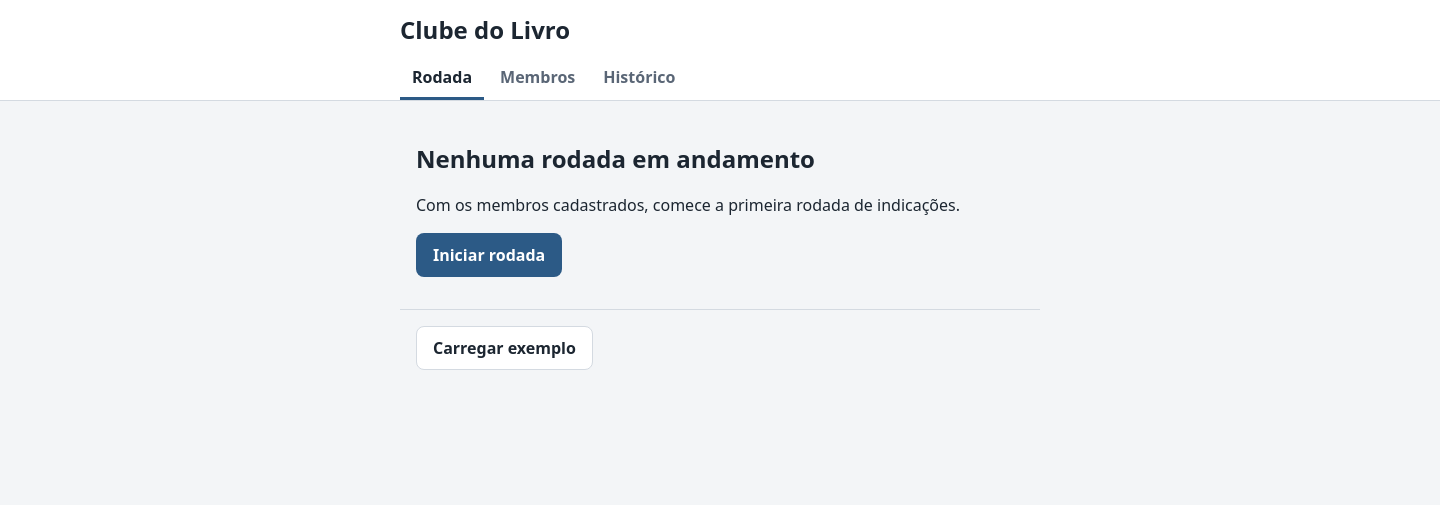
Scenario: App › troca de aba pela navegação
What coordinates should you click on to do the following:
click the link "Membros"
I would click on:
 (538, 77)
Its box is left=500, top=66, right=575, bottom=88.
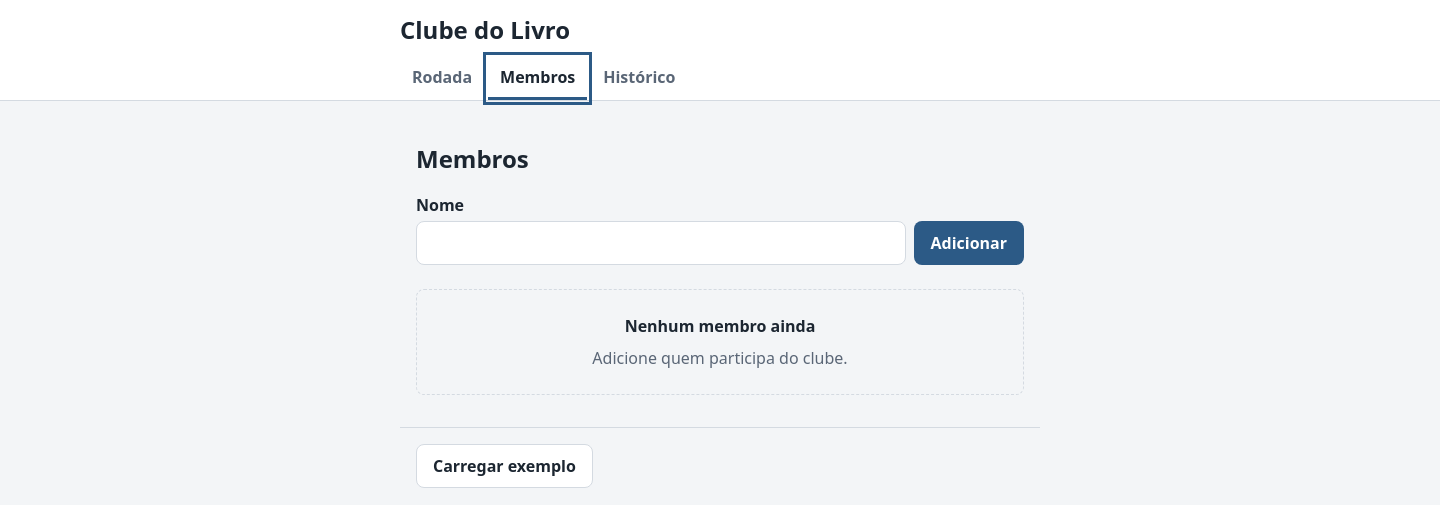
Expected: the heading "Membros" is shown, left=416, top=142, right=529, bottom=175
What coordinates should you click on to do the following:
click the link "Histórico"
I would click on:
 (639, 77)
Its box is left=603, top=66, right=676, bottom=88.
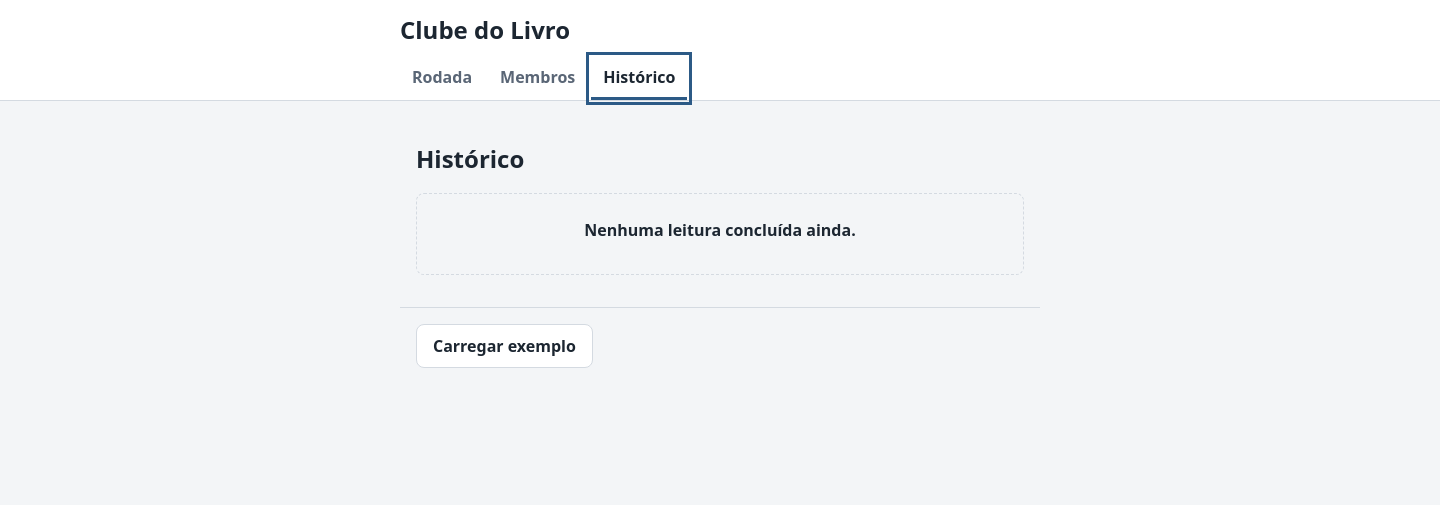
Expected: the heading "Histórico" is shown, left=416, top=142, right=524, bottom=175
